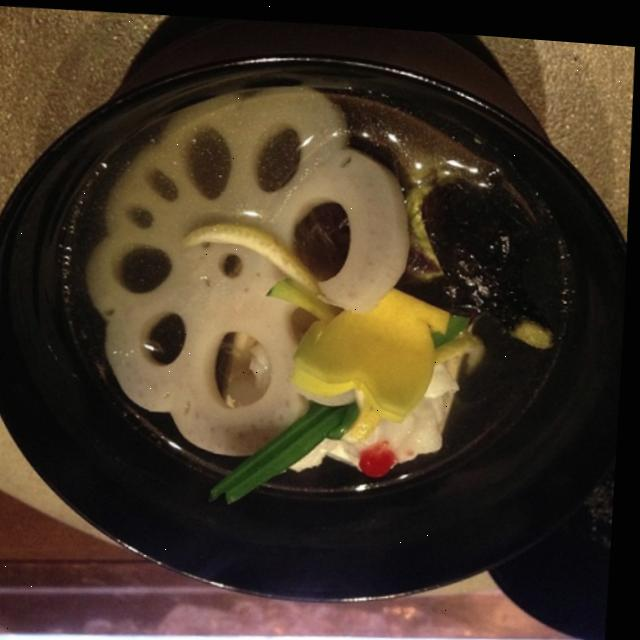汤锅炖物: (0, 31, 638, 593)
